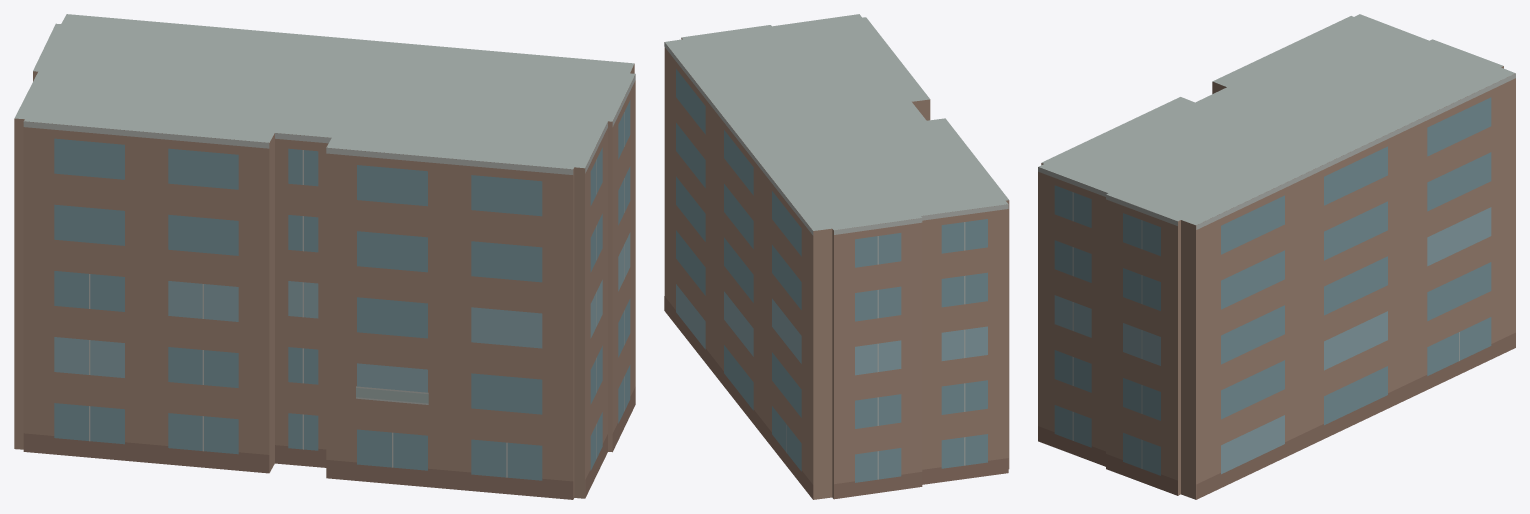
The model's file is survey-upis-32665406.glb.
3 renders of one model, left to right at view 1: azimuth 30°, elevation 25°; view 2: azimuth 150°, elevation 25°; view 3: azimuth 270°, elevation 25°, orthographic. The views are drawn at different scales.
Visible parts, largest first — view 1: survey-upis-32665406.tmp; view 2: survey-upis-32665406.tmp; view 3: survey-upis-32665406.tmp.
Boxes of the visible parts, box(x1,y1,x2,y2) form: survey-upis-32665406.tmp: box(14, 14, 635, 499); survey-upis-32665406.tmp: box(664, 14, 1009, 499); survey-upis-32665406.tmp: box(1038, 14, 1515, 499).
Size of the model in its own units: 22.8 by 13.8 by 21.77.
